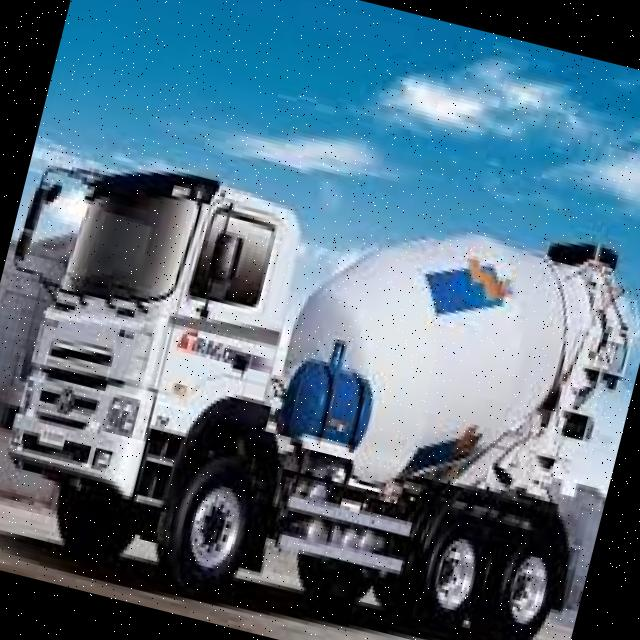Mixer Truck: (0, 99, 640, 640)
